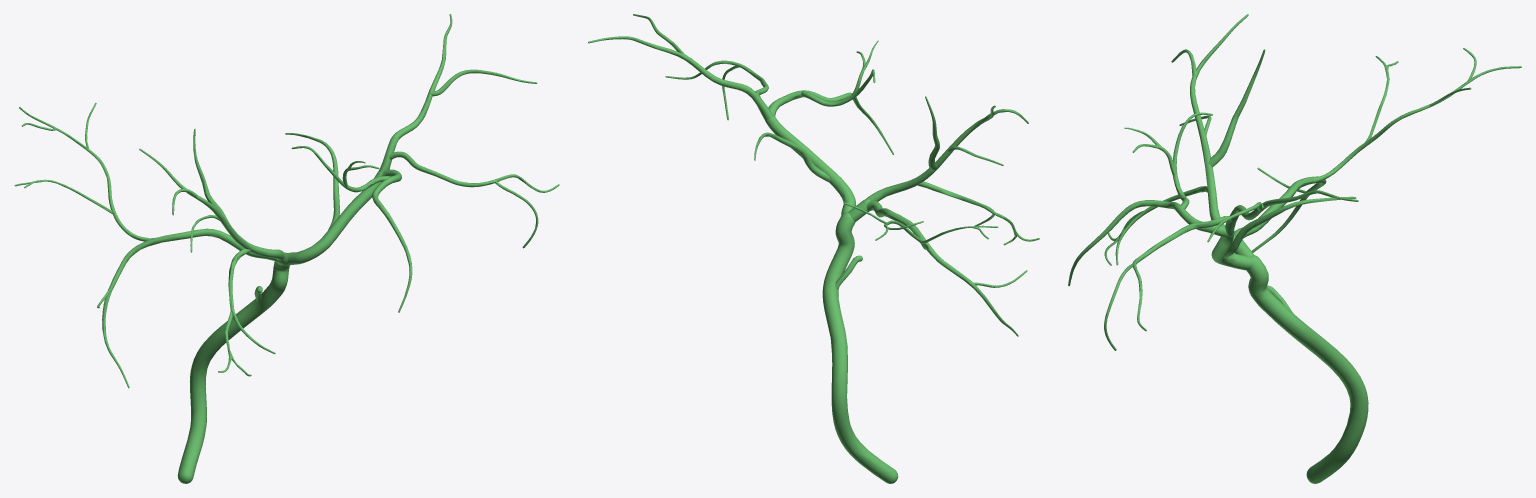
Rendered from biliary_tree.glb.
3 views of the same model, side by side, from view 1: azimuth 30°, elevation 25°; view 2: azimuth 150°, elevation 25°; view 3: azimuth 270°, elevation 25° (orthographic). The views are drawn at different scales.
Parts seen in each view (by area): view 1: FJ3071_BP48676_FMA71867_Anterior superior tributary of right; view 2: FJ3071_BP48676_FMA71867_Anterior superior tributary of right; view 3: FJ3071_BP48676_FMA71867_Anterior superior tributary of right.
Boxes of the visible parts, bbox=[...] form: FJ3071_BP48676_FMA71867_Anterior superior tributary of right: bbox=[14, 14, 559, 483]; FJ3071_BP48676_FMA71867_Anterior superior tributary of right: bbox=[588, 14, 1039, 483]; FJ3071_BP48676_FMA71867_Anterior superior tributary of right: bbox=[1068, 14, 1521, 483].
Bounding box in the file's own units: 0.3384 × 0.2843 × 0.2654.
